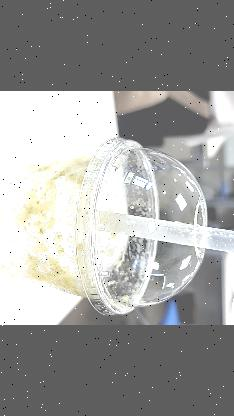Others: (0, 138, 208, 317), (77, 135, 210, 317), (80, 200, 234, 272)
